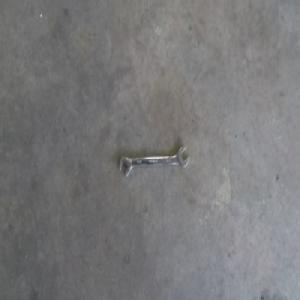Wrench: (119, 148, 188, 178)
